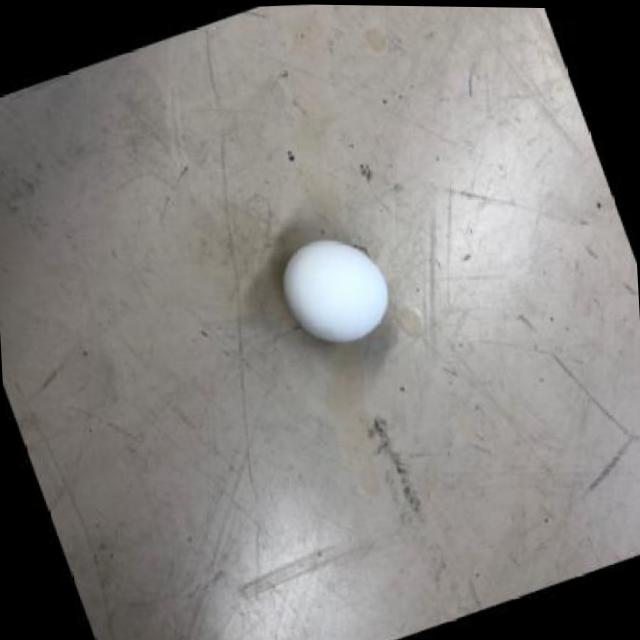egg: (278, 226, 402, 351)
